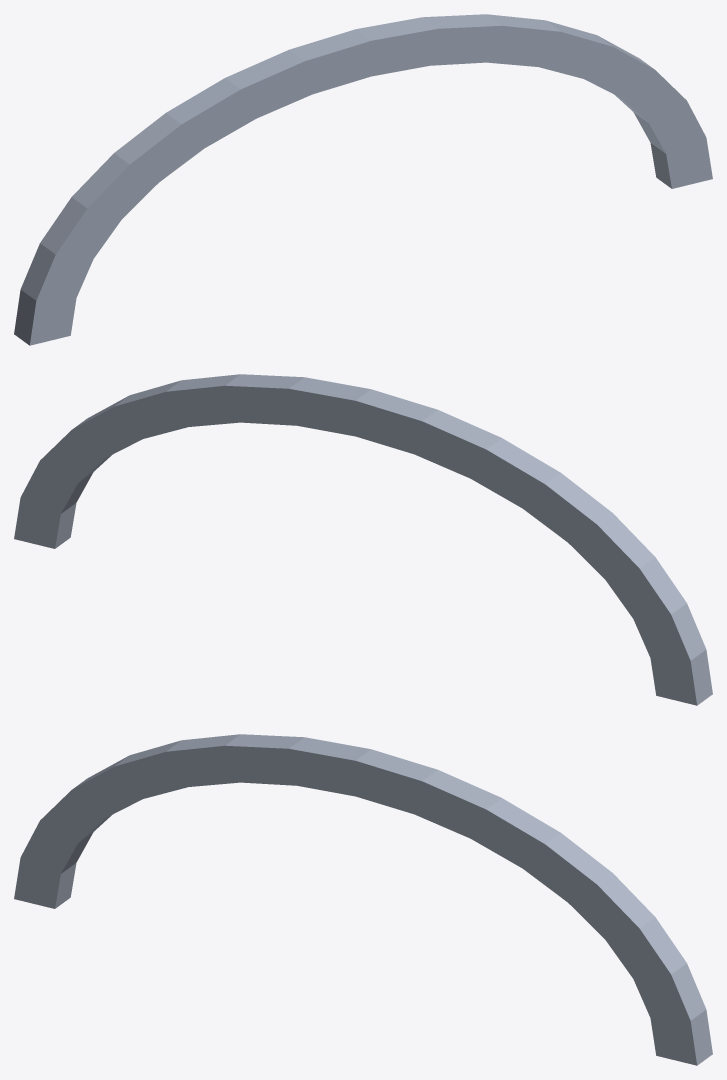
File: corridor_arch.obj
3 views of the same model, one above another, from view 1: azimuth 30°, elevation 25°; view 2: azimuth 150°, elevation 25°; view 3: azimuth 330°, elevation 25° (orthographic).
Parts seen in each view (by area): view 1: corridor_arch; view 2: corridor_arch; view 3: corridor_arch.
Boxes of the visible parts, x1,y1,x2,y2 form: corridor_arch: (14, 14, 712, 345); corridor_arch: (14, 374, 712, 705); corridor_arch: (14, 734, 712, 1065).
Bounding box in the file's own units: 2 × 0.62 × 0.08.
